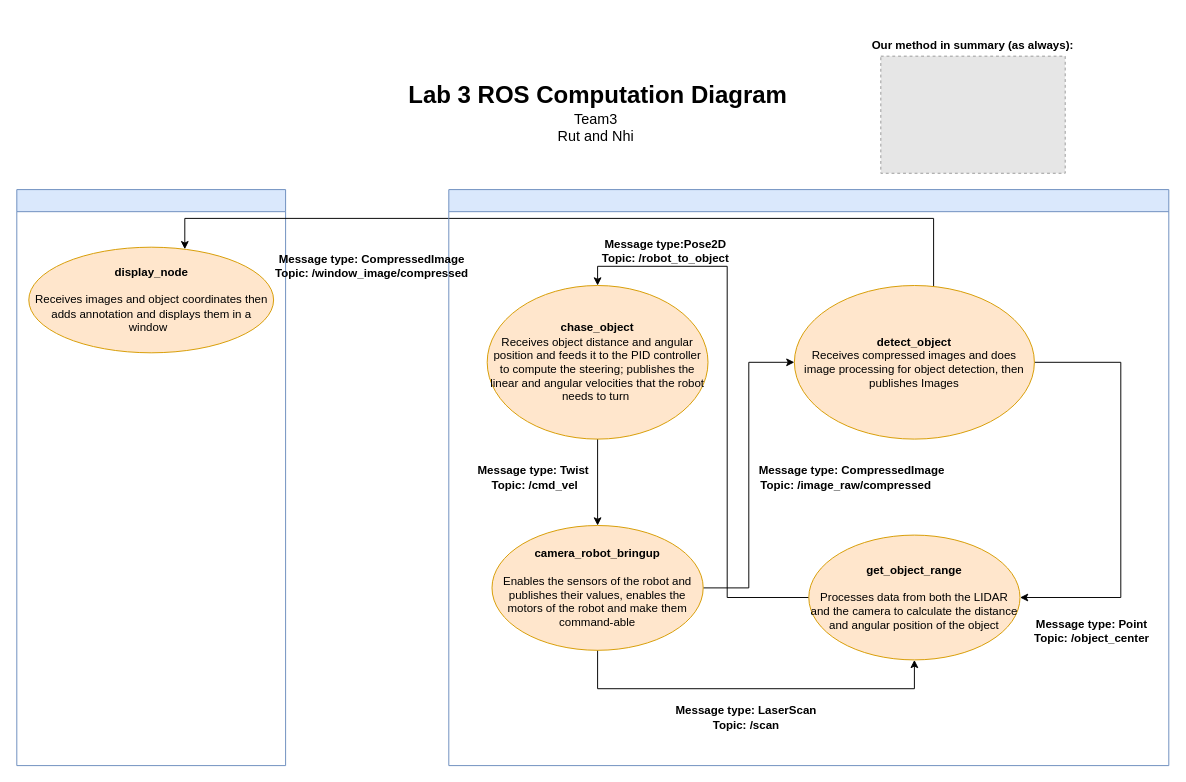
The diagram is 1186 pixels wide and 782 high, and some of its shapes have lost their labels. Grey dashed boxes stand in for pictures. The box of each missing label's shape, as (x1, y1, x2, y2) in pixels:
Laptop/Computer: (16, 189, 286, 766)
Turtlebot3: (448, 189, 1169, 766)
